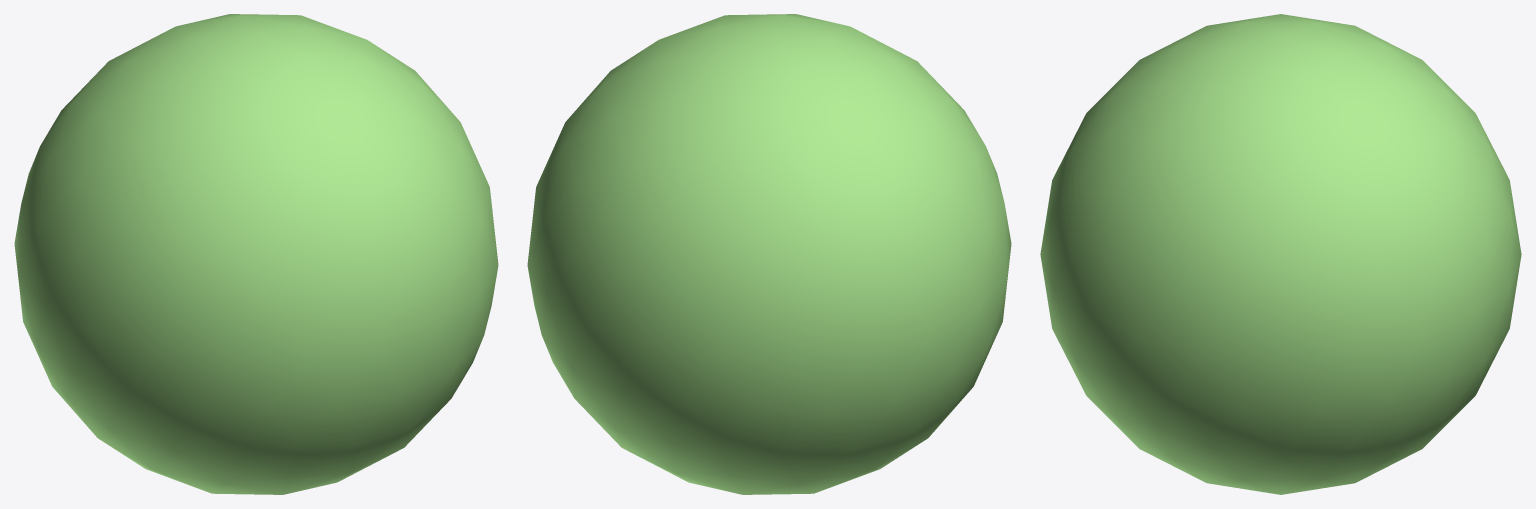
Rendered from SlimeShot.fbx.
3 renders of one model, left to right at view 1: azimuth 30°, elevation 25°; view 2: azimuth 150°, elevation 25°; view 3: azimuth 270°, elevation 25°, orthographic.
Visible parts, largest first — view 1: SlimeShot; view 2: SlimeShot; view 3: SlimeShot.
Boxes of the visible parts, x1=… form: SlimeShot: x1=14, y1=14, x2=498, y2=494; SlimeShot: x1=527, y1=14, x2=1011, y2=494; SlimeShot: x1=1040, y1=14, x2=1521, y2=494.
Size of the model in its own units: 152 by 152 by 152.
